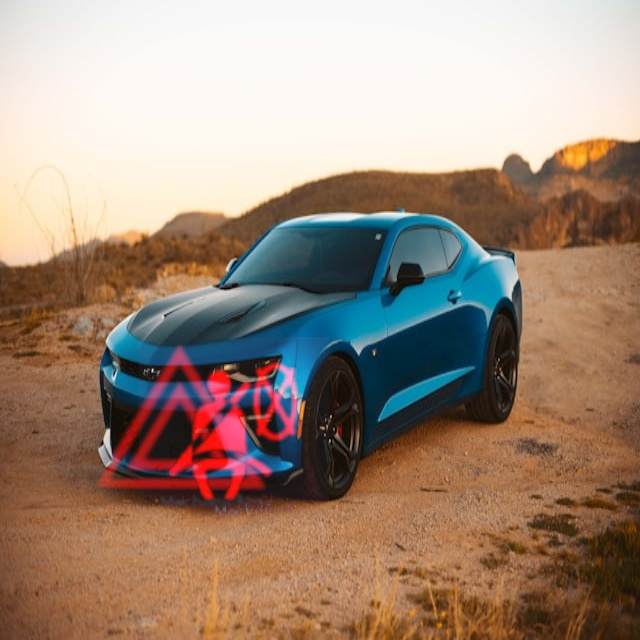symbol: (81, 318, 281, 518), (139, 337, 329, 527), (392, 26, 516, 150)
